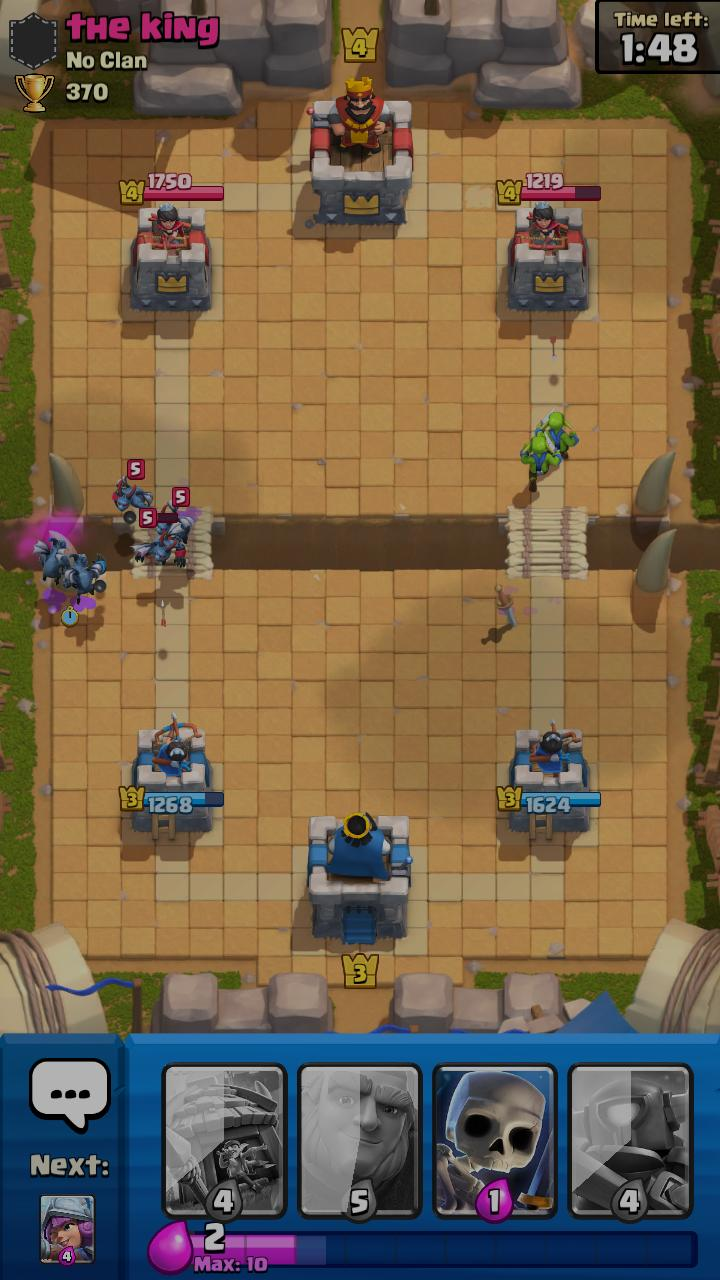ally: (520, 432, 562, 492), (535, 408, 579, 459), (63, 553, 106, 605), (33, 537, 72, 586)
enemy: (129, 508, 187, 568), (155, 487, 196, 544), (112, 459, 155, 512)
